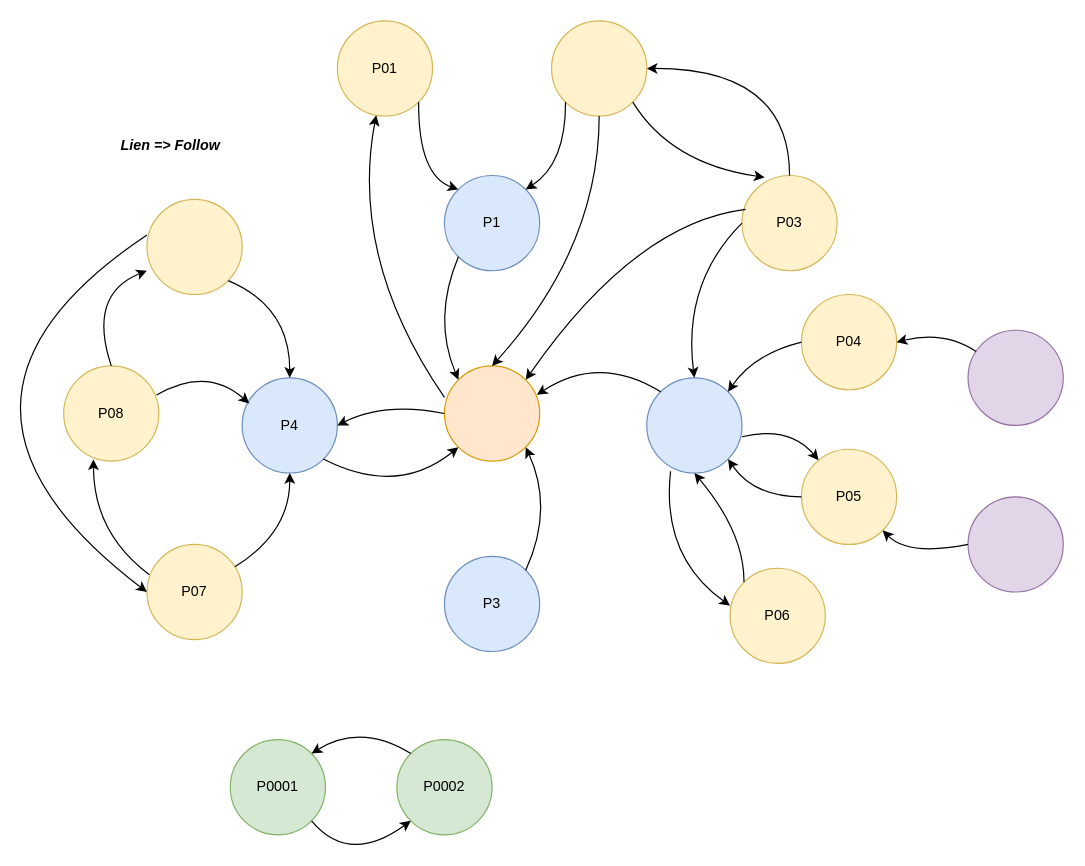
This 1085x866 diagram has some shape labels left out. Here are the shapes that lost their labels. From the top down, the centre of each, then its label:
point (598, 68): P02
point (194, 246): P09
point (1015, 377): P001
point (491, 413): Influenceur
point (694, 425): P2
point (1015, 544): P002
